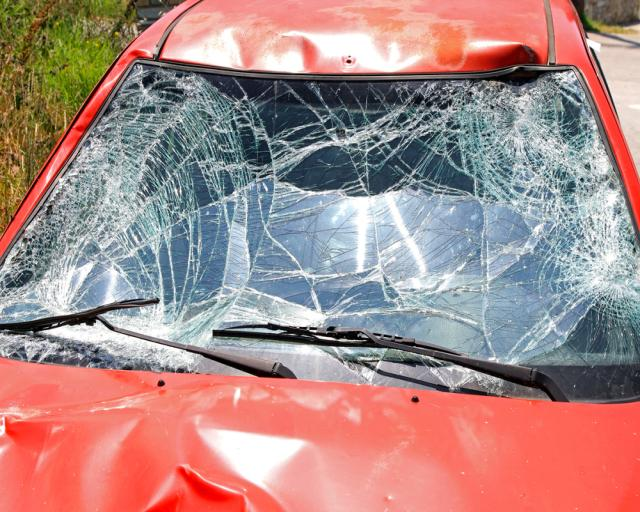dent: (1, 385, 390, 512), (182, 31, 319, 72), (404, 43, 541, 71)
glass shatter: (0, 62, 640, 404)
